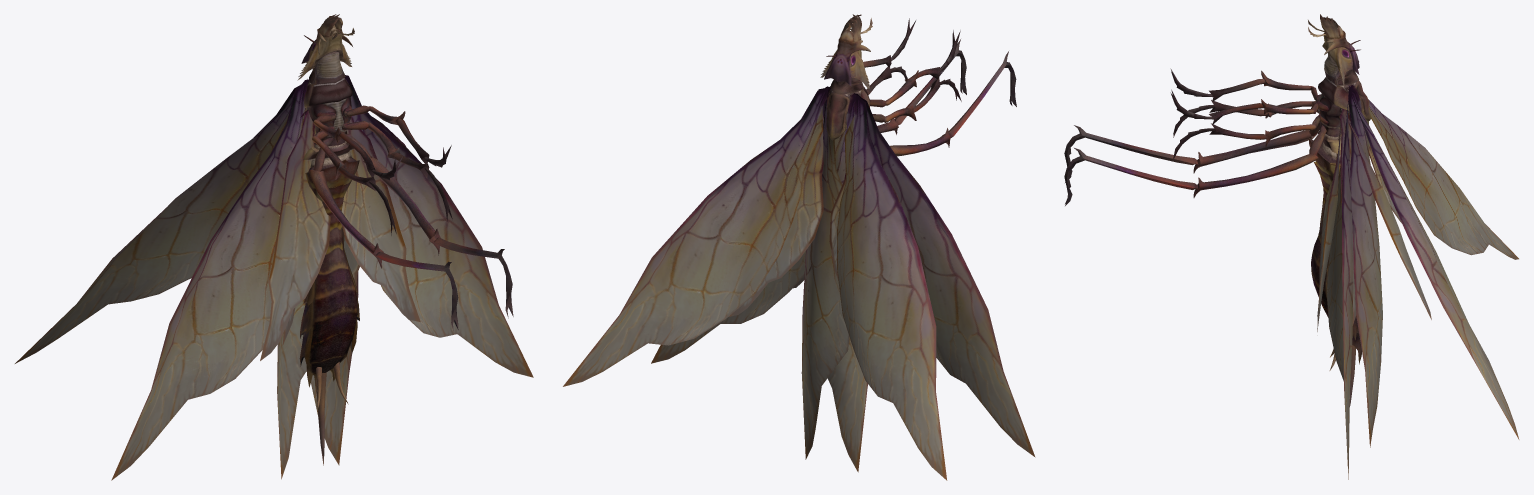
The model's file is ems006_00.obj.
3 views of the same model, side by side, from view 1: azimuth 30°, elevation 25°; view 2: azimuth 150°, elevation 25°; view 3: azimuth 270°, elevation 25° (orthographic). The views are drawn at different scales.
Visible parts, largest first — view 1: ems006_00_010_LOD_1, ems006_00_009_LOD_1, ems006_00_004_LOD_1, ems006_00_011_LOD_1, ems006_00_006_LOD_1, ems006_00_008_LOD_1; view 2: ems006_00_009_LOD_1, ems006_00_010_LOD_1, ems006_00_006_LOD_1, ems006_00_004_LOD_1, ems006_00_007_LOD_1, ems006_00_008_LOD_1; view 3: ems006_00_009_LOD_1, ems006_00_004_LOD_1, ems006_00_006_LOD_1, ems006_00_010_LOD_1, ems006_00_011_LOD_1.
Part boxes in pixels (bbox=[...]): ems006_00_010_LOD_1: bbox=[111, 75, 533, 480]; ems006_00_009_LOD_1: bbox=[15, 80, 406, 363]; ems006_00_004_LOD_1: bbox=[300, 25, 513, 330]; ems006_00_011_LOD_1: bbox=[299, 151, 359, 465]; ems006_00_006_LOD_1: bbox=[277, 84, 359, 479]; ems006_00_008_LOD_1: bbox=[116, 80, 528, 476]; ems006_00_009_LOD_1: bbox=[563, 88, 947, 480]; ems006_00_010_LOD_1: bbox=[651, 86, 1035, 457]; ems006_00_006_LOD_1: bbox=[801, 88, 867, 472]; ems006_00_004_LOD_1: bbox=[823, 14, 1016, 156]; ems006_00_007_LOD_1: bbox=[564, 88, 944, 477]; ems006_00_008_LOD_1: bbox=[652, 95, 1032, 453]; ems006_00_009_LOD_1: bbox=[1345, 86, 1519, 439]; ems006_00_004_LOD_1: bbox=[1064, 20, 1371, 205]; ems006_00_006_LOD_1: bbox=[1340, 85, 1382, 447]; ems006_00_010_LOD_1: bbox=[1317, 86, 1353, 479]; ems006_00_011_LOD_1: bbox=[1308, 138, 1361, 406].
Size of the model in its own units: 164 by 177 by 174.
